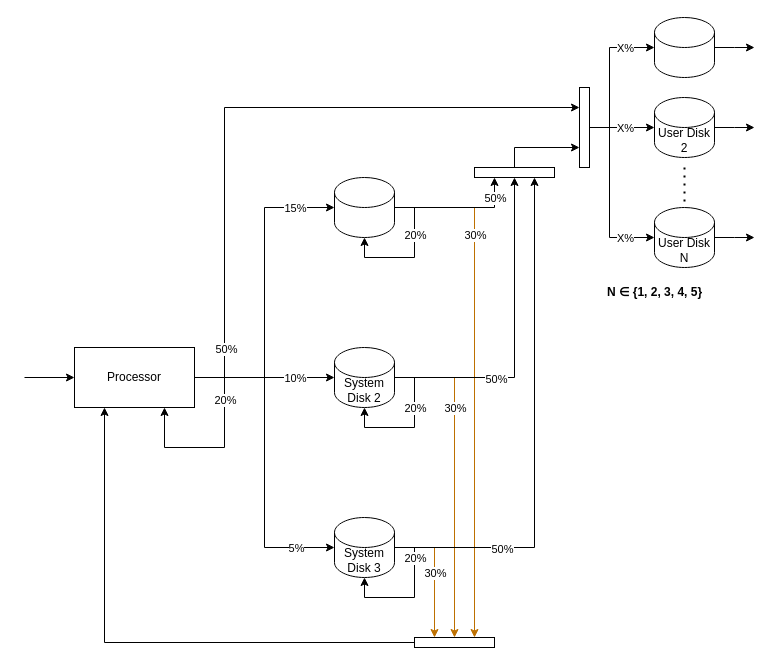
This 780x668 diagram has some shape labels left out. Here are the shapes that lost their labels. From the top down, the centre of each, then its label:
point 684,47: User Disk 1
point 364,207: System Disk 1
